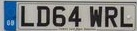character: (20, 5, 34, 27), (67, 5, 81, 27), (89, 5, 102, 28), (36, 5, 50, 26), (52, 5, 66, 26), (104, 6, 117, 28), (120, 5, 133, 27)
